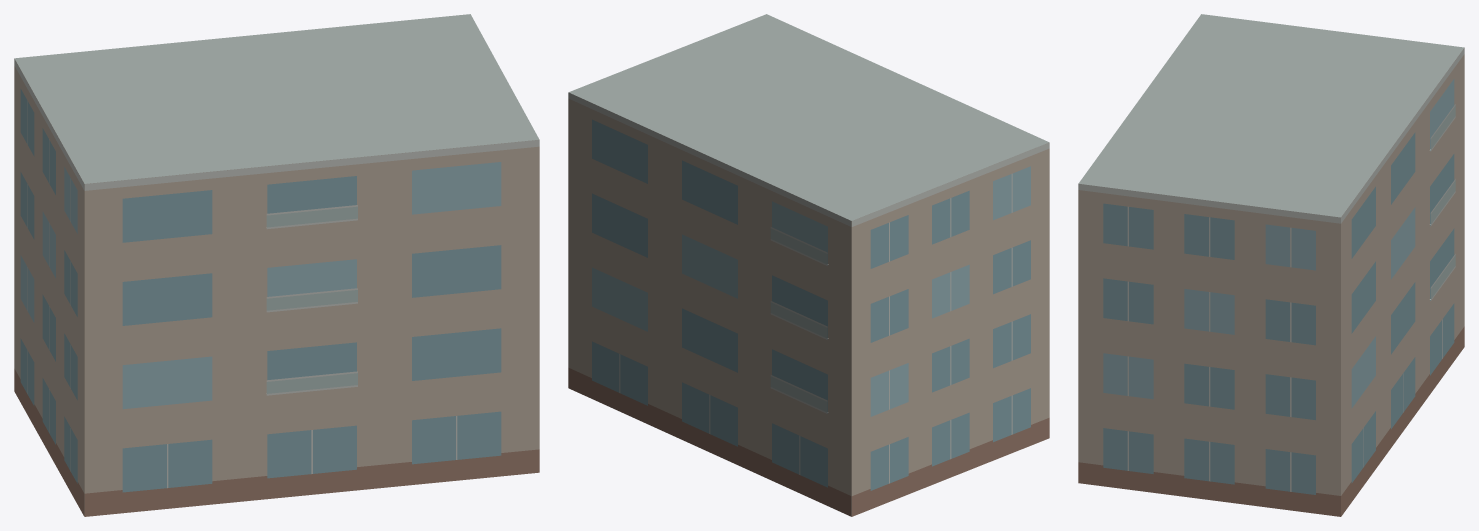
File: survey-upis-32963873.glb
3 renders of one model, left to right at view 1: azimuth 30°, elevation 25°; view 2: azimuth 150°, elevation 25°; view 3: azimuth 270°, elevation 25°, orthographic. The views are drawn at different scales.
Parts seen in each view (by area): view 1: survey-upis-32963873.tmp; view 2: survey-upis-32963873.tmp; view 3: survey-upis-32963873.tmp.
Boxes of the visible parts, bbox=[...] form: survey-upis-32963873.tmp: bbox=[14, 14, 539, 516]; survey-upis-32963873.tmp: bbox=[568, 14, 1049, 516]; survey-upis-32963873.tmp: bbox=[1078, 14, 1464, 516].
Bounding box in the file's own units: 17.07 × 11.7 × 13.69.
